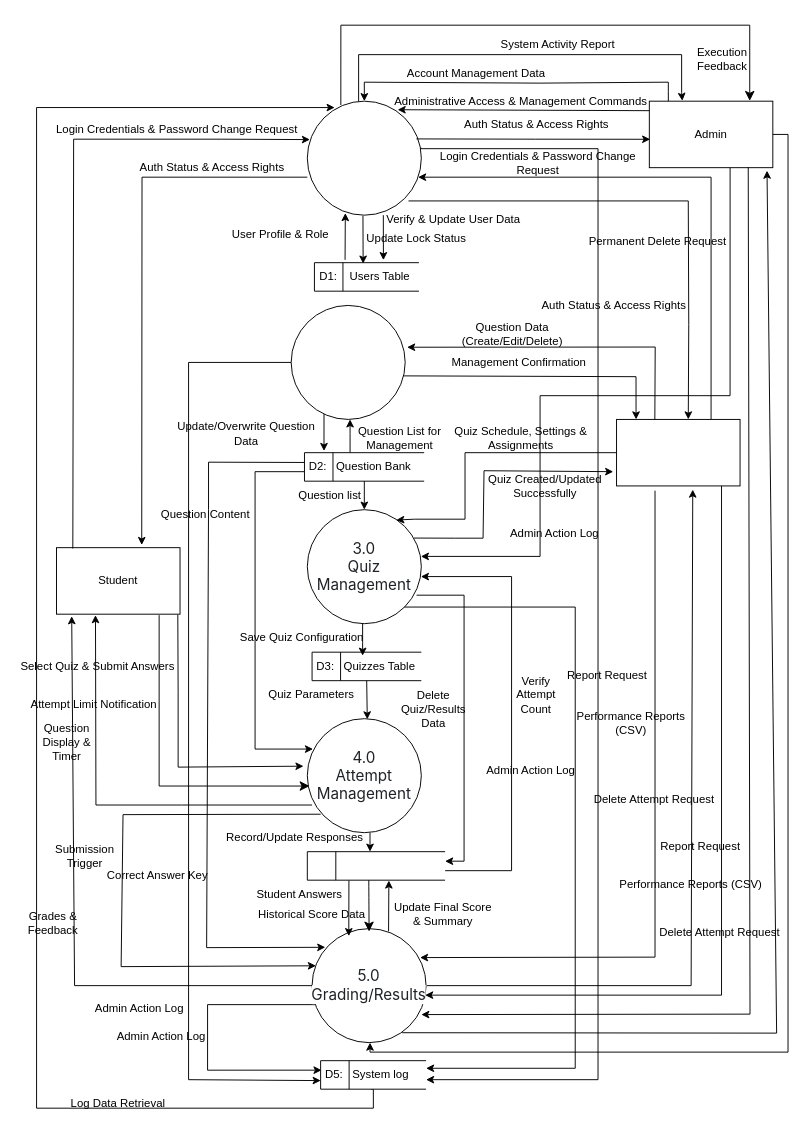
This 812x1134 diagram has some shape labels left out. The shapes that lost their labels are listed below. From the top down, each one's box as (x1, y1, x2, y2) in pixels, then its label:
(306, 100, 421, 215): 1.0 Authentication
(290, 304, 405, 419): 2.0 Question Bank Management
(616, 418, 740, 486): Teacher
(306, 851, 445, 880): D4: Attempts & Results
